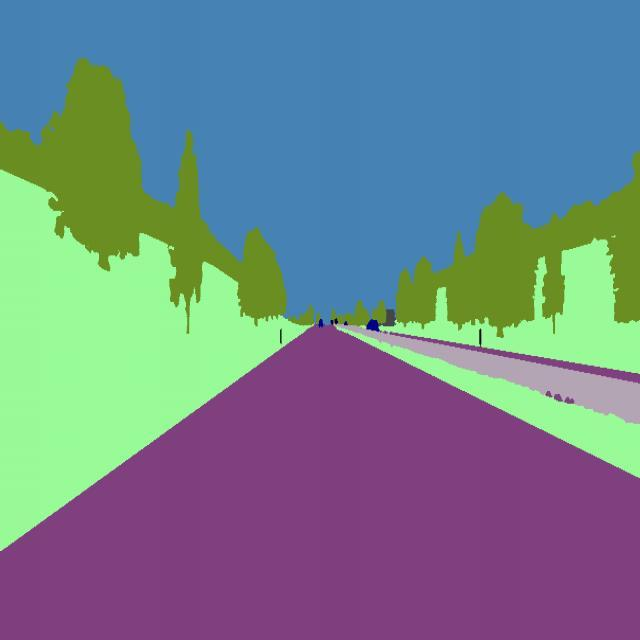safe: (365, 314, 381, 336), (318, 318, 324, 332)
